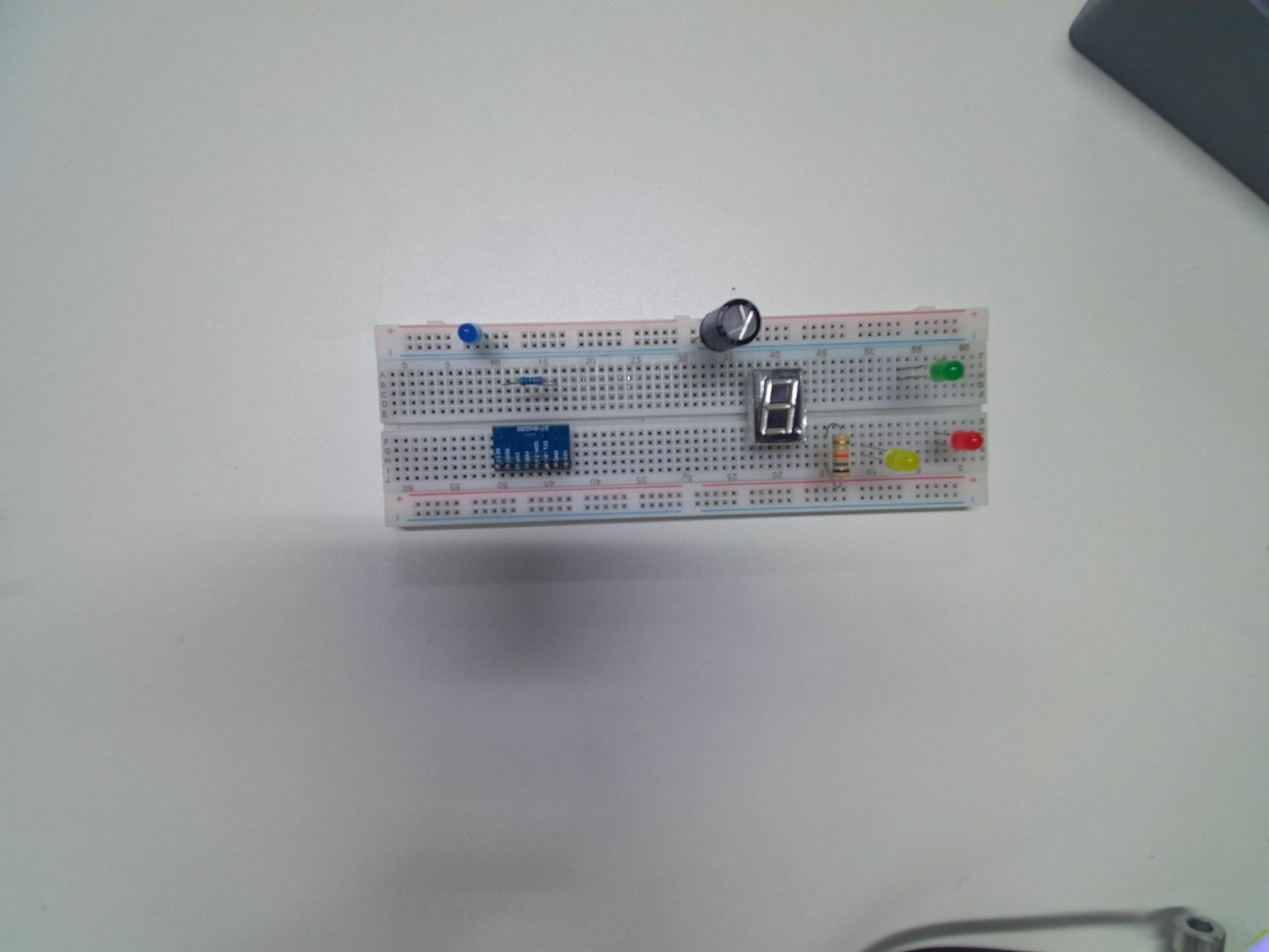base: (372, 296, 991, 531)
blue-board: (490, 421, 571, 474)
blue-led: (458, 323, 483, 347)
capacitor: (696, 299, 762, 354)
digit-board: (740, 363, 810, 446)
green-led: (929, 359, 966, 385)
red-led: (949, 429, 985, 452)
resistor-big: (830, 430, 852, 481)
resistor-small: (517, 375, 545, 387)
yellow-led: (885, 449, 921, 473)
